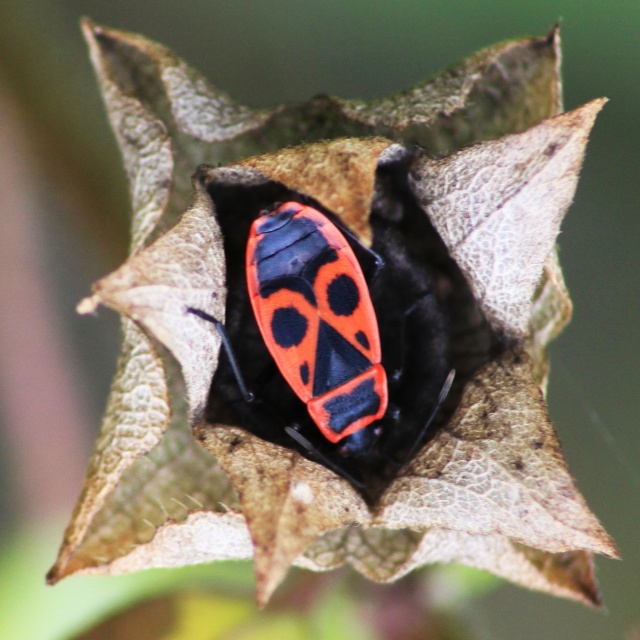Moths and butterflies: (180, 201, 456, 504)
